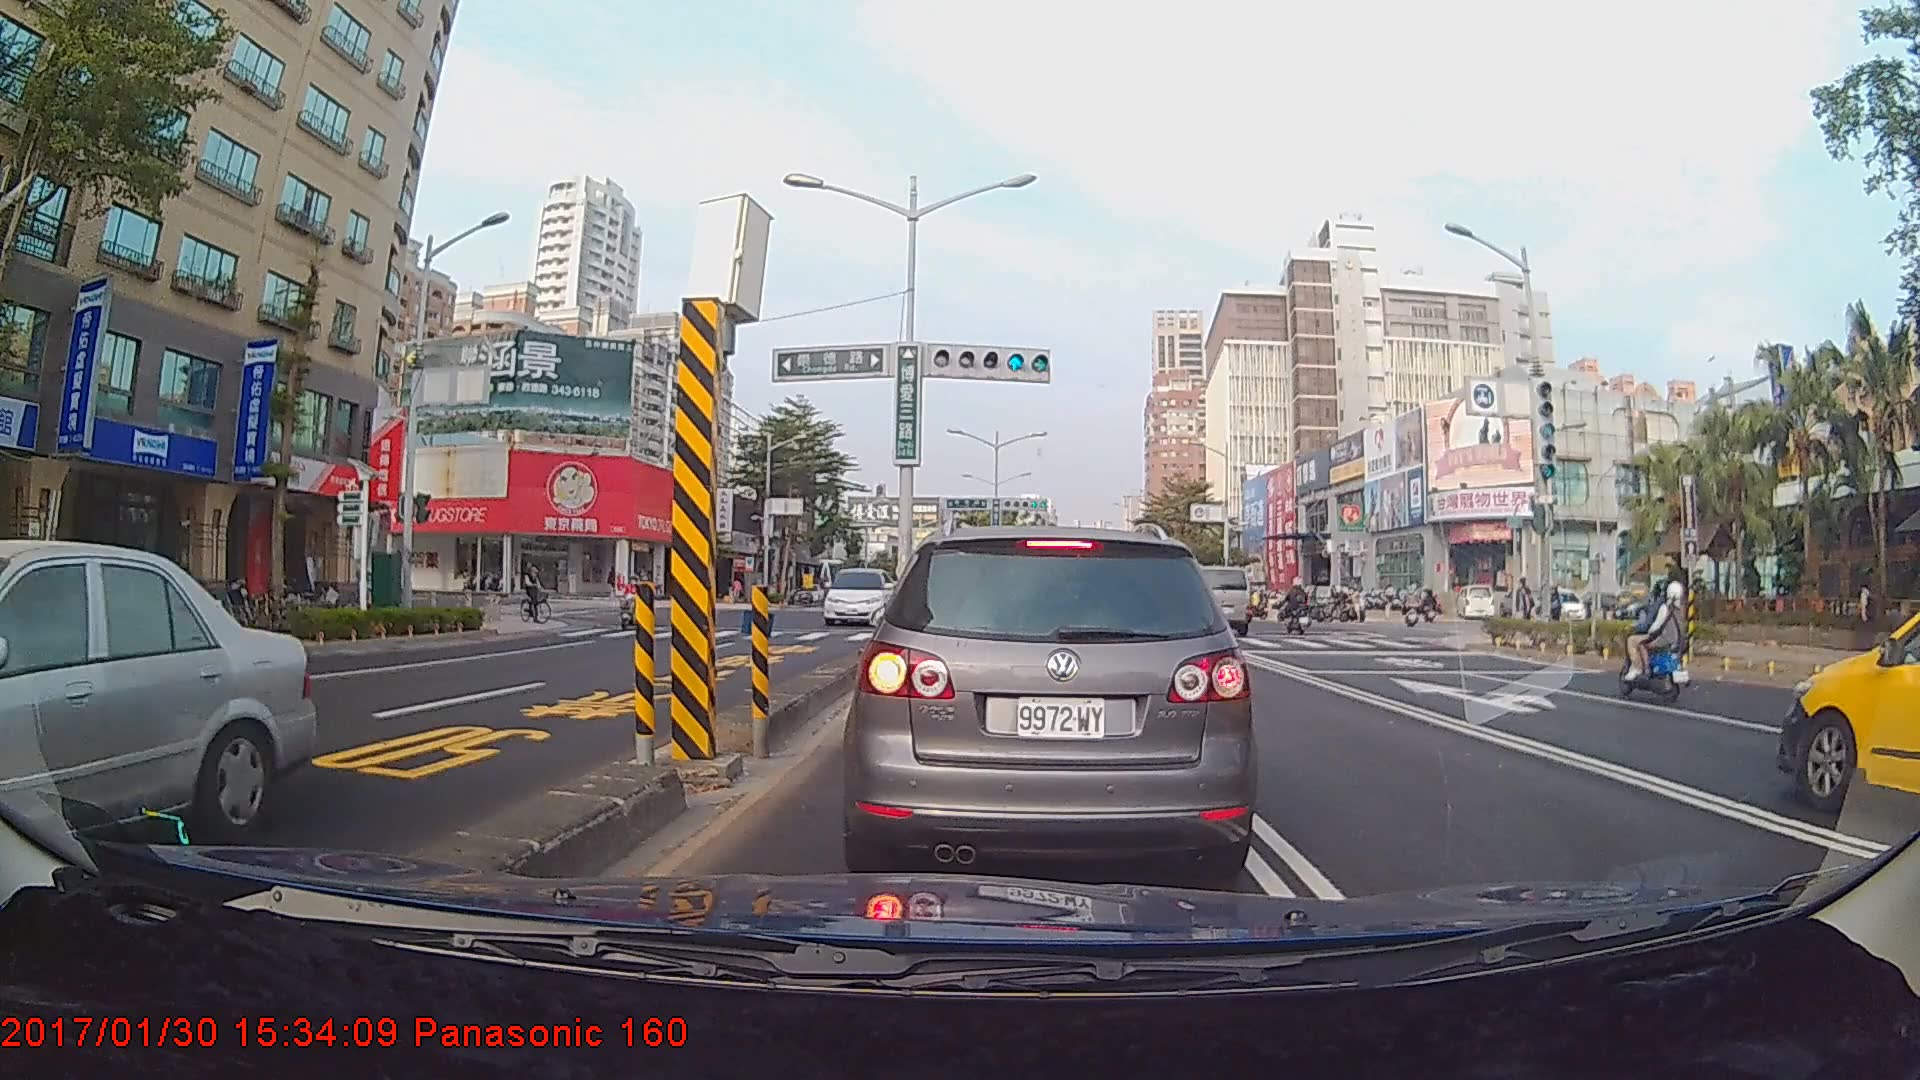pedestrian: (1852, 580, 1879, 653)
rider: (1610, 572, 1701, 712), (518, 559, 561, 629), (1283, 580, 1318, 637)
vehicle: (857, 519, 1251, 884), (0, 540, 313, 895), (1779, 578, 1920, 817), (1148, 563, 1251, 634), (821, 566, 900, 629)
